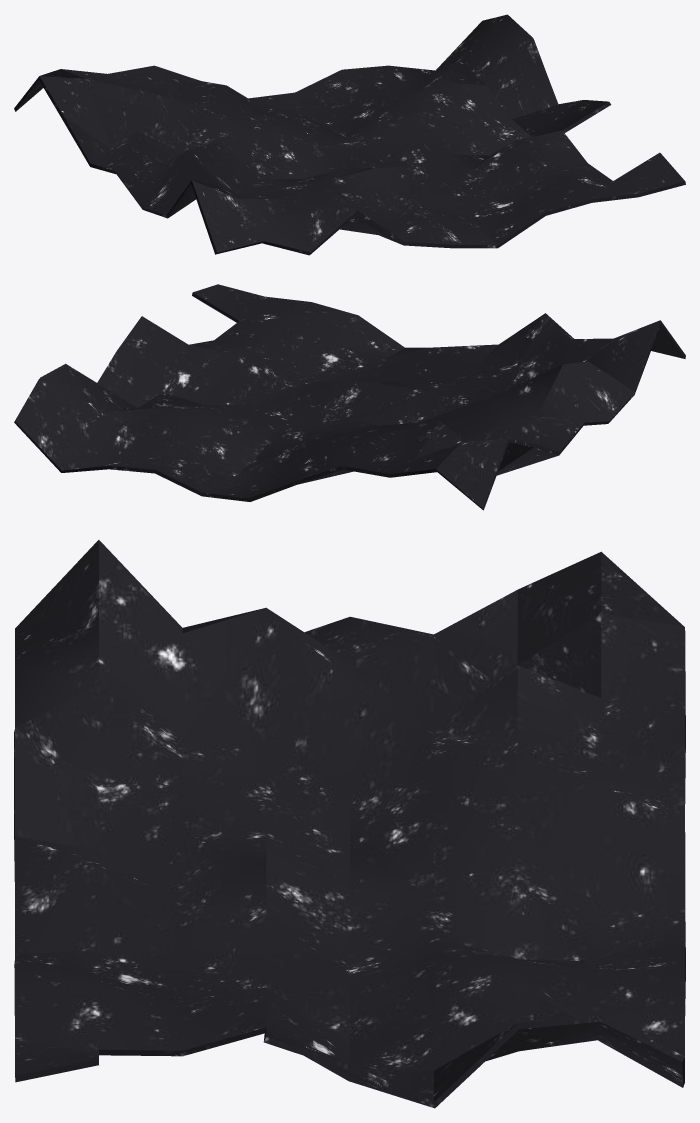
The model's file is sheet_5.glb.
3 views of the same model, one above another, from view 1: azimuth 30°, elevation 25°; view 2: azimuth 150°, elevation 25°; view 3: azimuth 270°, elevation 25° (orthographic). The views are drawn at different scales.
Visible parts, largest first — view 1: sheet_5; view 2: sheet_5; view 3: sheet_5.
Boxes of the visible parts, bbox=[...] form: sheet_5: bbox=[14, 14, 685, 255]; sheet_5: bbox=[14, 284, 685, 510]; sheet_5: bbox=[14, 540, 685, 1108].
Bounding box in the file's own units: 0.5553 × 0.1424 × 0.4157.
Materials: 1 (1 with a texture image).
